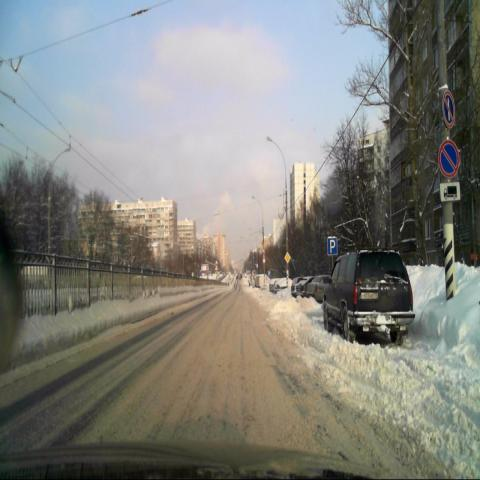3_29: (442, 88, 456, 130)
